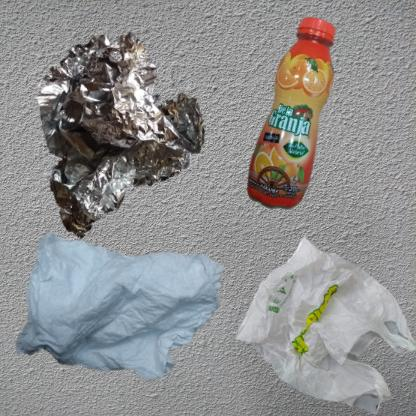aluminio: (10, 10, 240, 259)
bolsa: (213, 213, 416, 416)
botella: (213, 10, 416, 296)
papel: (10, 213, 249, 413)
